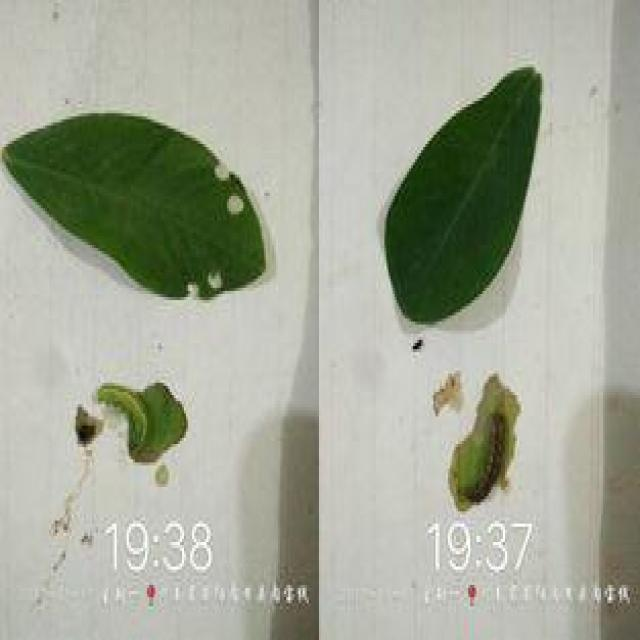BeetArmyWorm-Larva-: (96, 381, 159, 458)
